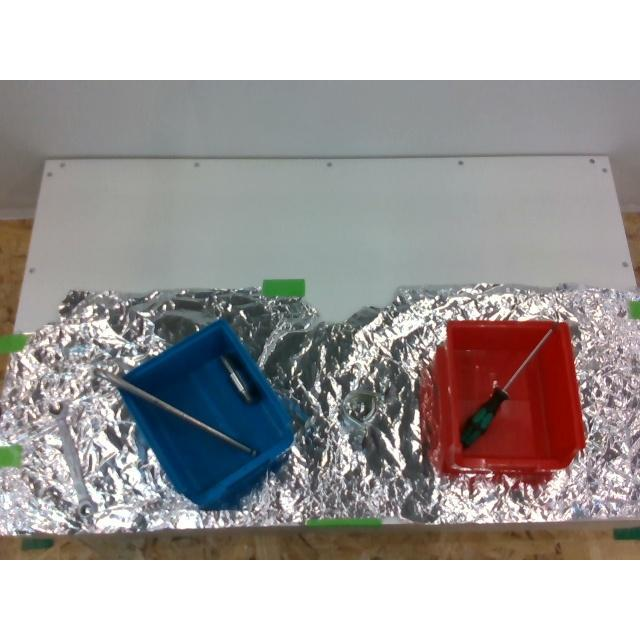AllenKey: (95, 368, 258, 456)
Axis2: (219, 356, 253, 404)
Housing: (338, 386, 392, 450)
Screwdriver: (460, 327, 554, 447)
Wrench: (48, 400, 96, 518)
container_box_blue: (115, 320, 292, 508)
container_box_red: (446, 320, 586, 472)
